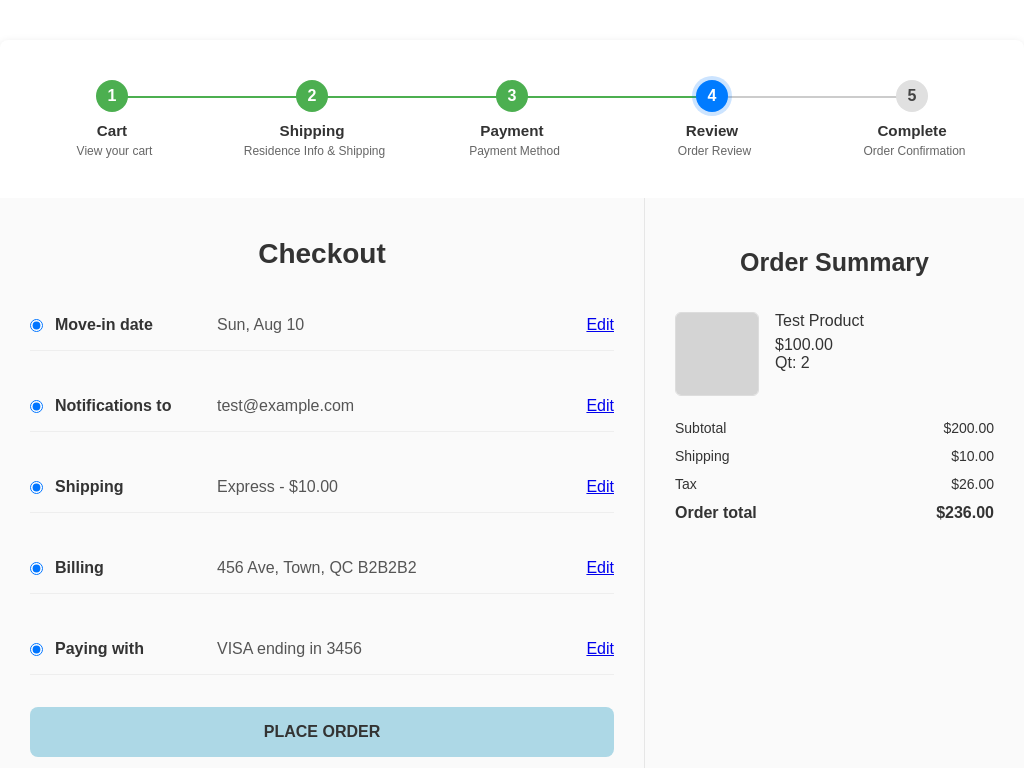
Test case: ReviewPage full coverage › handles fetch error
Click the button "PLACE ORDER" at [322, 732], box [30,707,614,757]
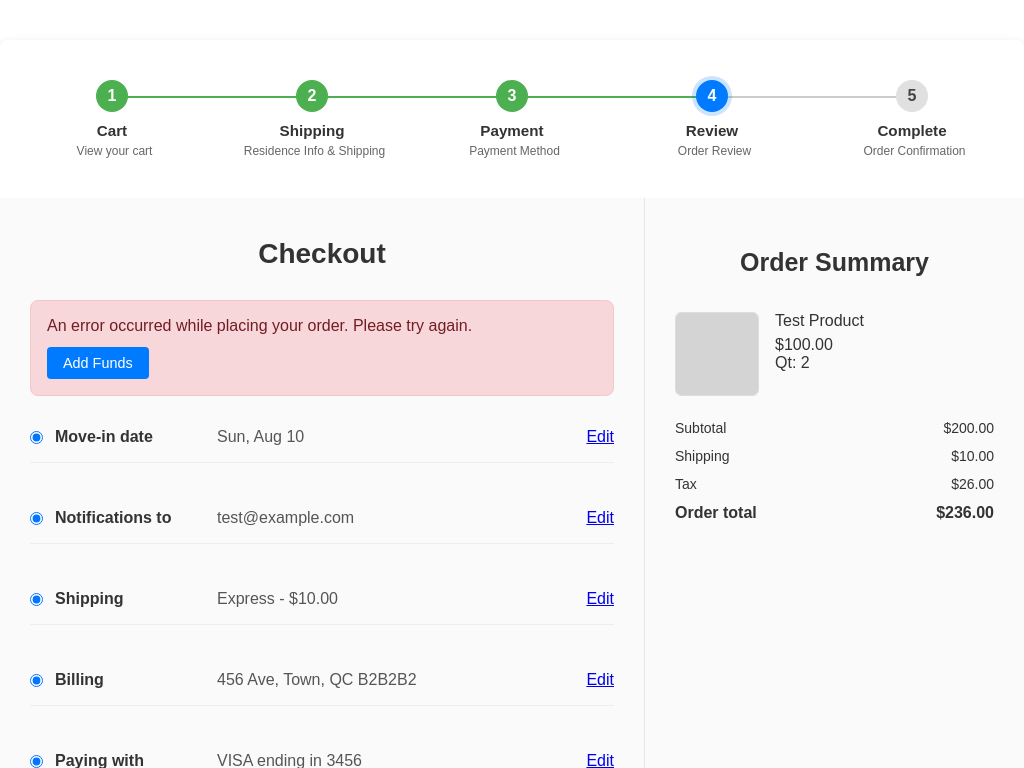
expect the text "An error occurred" is shown: met, box [47,317,472,334]
